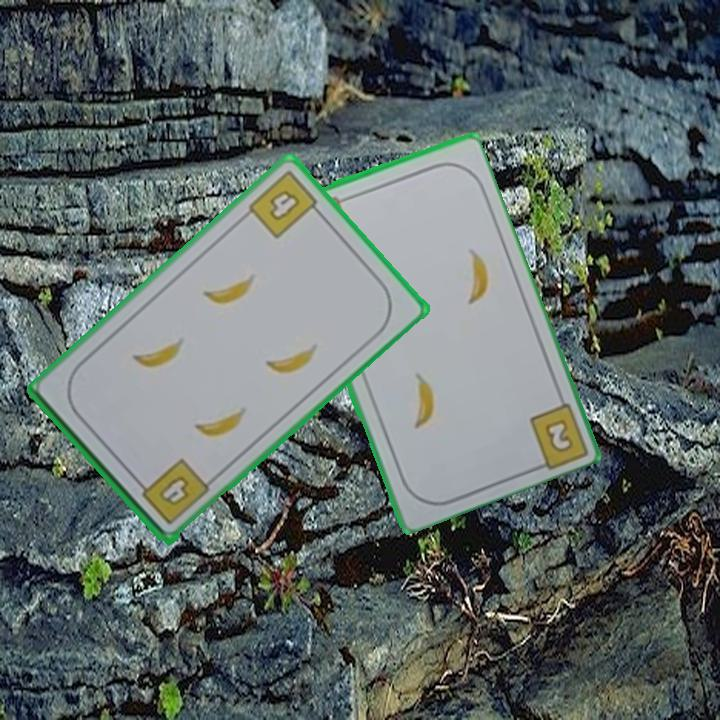2b: (540, 415, 576, 456)
4b: (244, 166, 326, 242), (132, 454, 213, 528)
